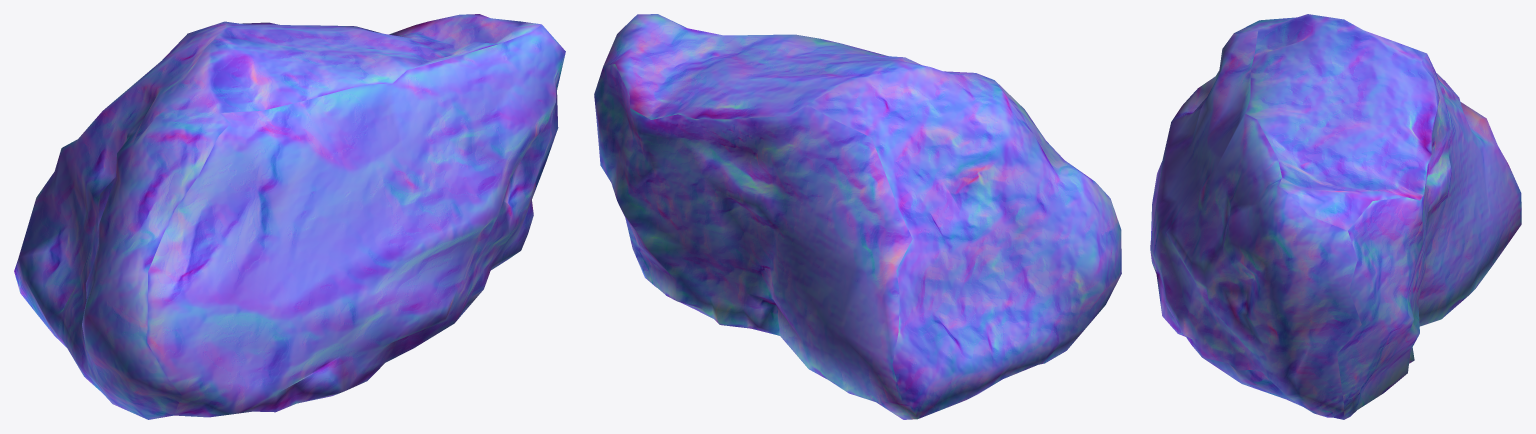
Rendered from rock2.obj.
3 renders of one model, left to right at view 1: azimuth 30°, elevation 25°; view 2: azimuth 150°, elevation 25°; view 3: azimuth 270°, elevation 25°, orthographic. The views are drawn at different scales.
Parts seen in each view (by area): view 1: s_rock.088; view 2: s_rock.088; view 3: s_rock.088.
Part boxes in pixels (x1=…): s_rock.088: x1=14, y1=14, x2=565, y2=419; s_rock.088: x1=594, y1=14, x2=1121, y2=419; s_rock.088: x1=1150, y1=14, x2=1521, y2=419.
Size of the model in its own units: 10.03 by 5.89 by 6.75.
